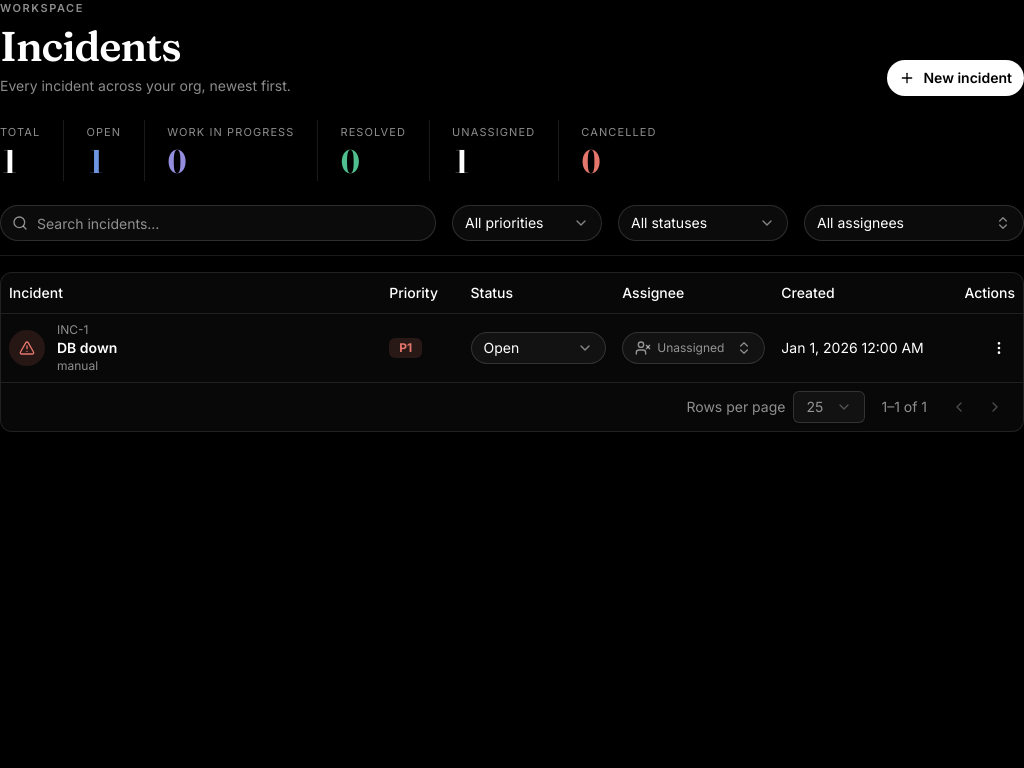
Scenario: IncidentsListPage — new incident › shows the New incident button for an editable role and opens the create dialog
Step 1. Click the button "New incident" → (956,78), box [888, 60, 1023, 96]
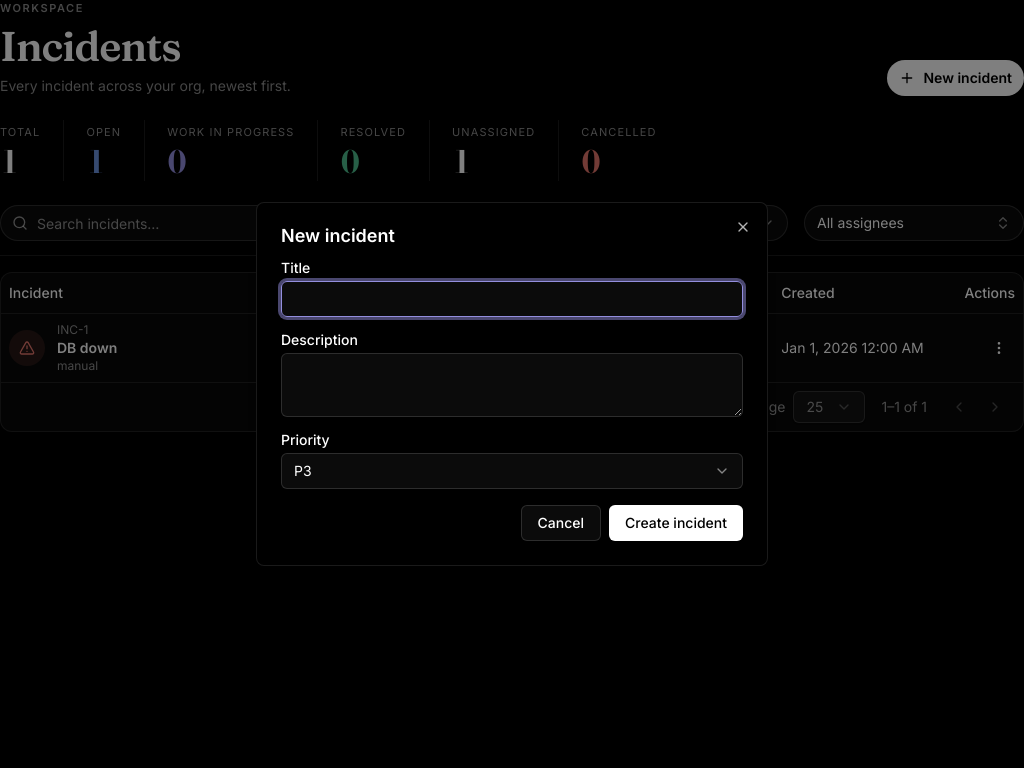
Now the dialog is shown, box [256, 202, 768, 566]
